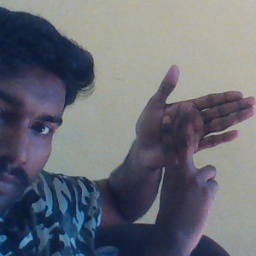N: (131, 63, 256, 197)
